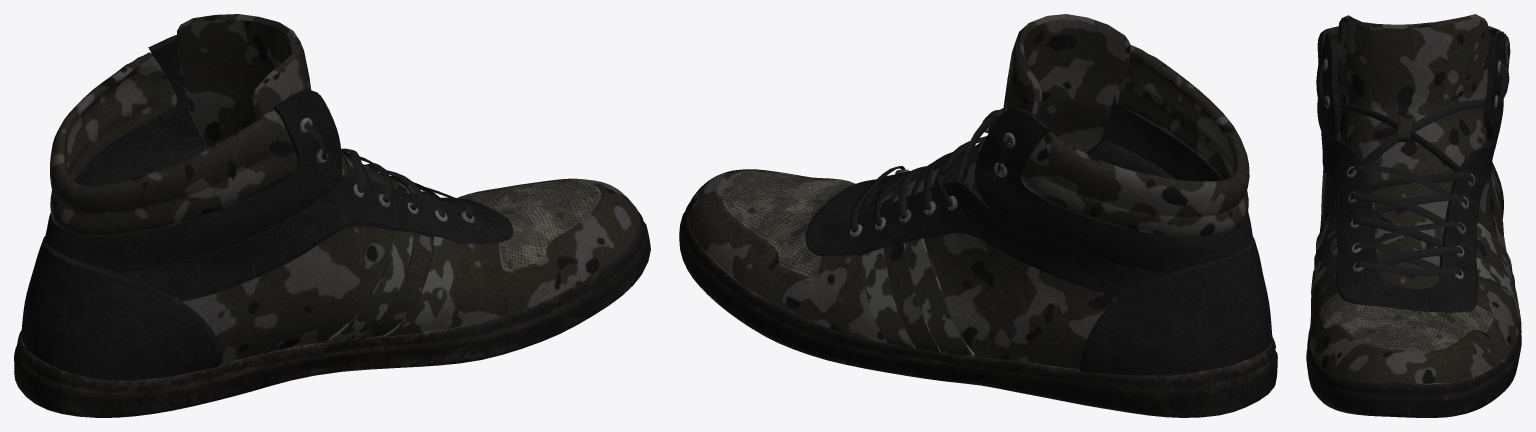
The model's file is shoes-6.glb.
3 renders of one model, left to right at view 1: azimuth 30°, elevation 25°; view 2: azimuth 150°, elevation 25°; view 3: azimuth 270°, elevation 25°, orthographic. The views are drawn at different scales.
Parts seen in each view (by area): view 1: shoes-6; view 2: shoes-6; view 3: shoes-6.
Part boxes in pixels (x1,y1,x2,y2): shoes-6: [14, 14, 650, 417]; shoes-6: [679, 14, 1277, 417]; shoes-6: [1306, 14, 1521, 417].
Size of the model in its own units: 0.3166 by 0.1672 by 0.1159.
1 material, 1 textured.
